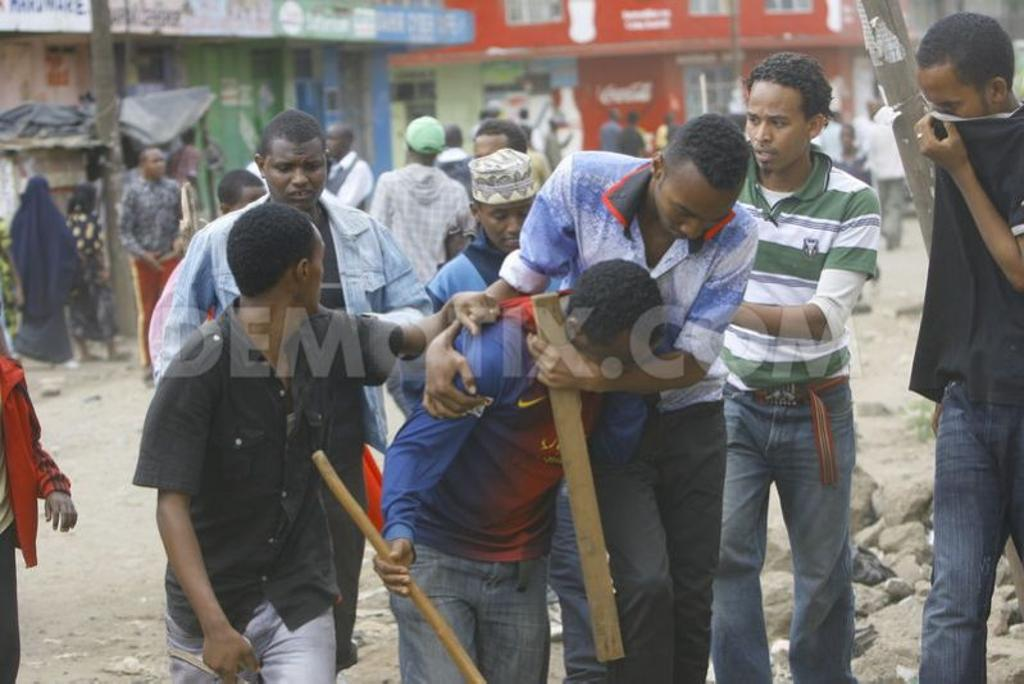face: (747, 82, 810, 167), (660, 170, 731, 241), (925, 68, 984, 147), (264, 143, 327, 208), (480, 192, 537, 252), (290, 236, 325, 308), (473, 135, 508, 189), (239, 190, 268, 233), (146, 152, 168, 175), (325, 131, 341, 156), (842, 131, 854, 148)
